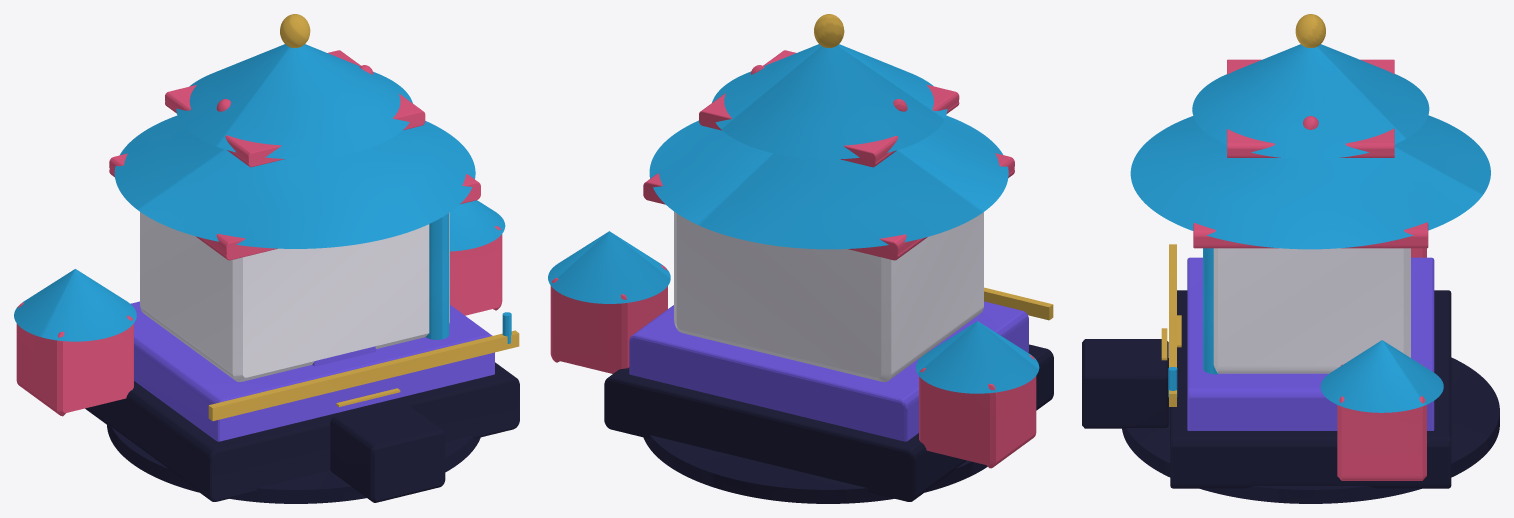
File: 0804_中国建筑图鉴_三大殿.glb
The picture shows the model from 3 angles, left to right: view 1: azimuth 30°, elevation 25°; view 2: azimuth 150°, elevation 25°; view 3: azimuth 270°, elevation 25°; orthographic projection.
Parts seen in each view (by area): view 1: card_0804; view 2: card_0804; view 3: card_0804.
Boxes of the visible parts, x1=… form: card_0804: x1=14, y1=14, x2=519, y2=503; card_0804: x1=548, y1=14, x2=1053, y2=503; card_0804: x1=1082, y1=14, x2=1499, y2=503.
Size of the model in its own units: 1.21 by 1 by 0.9254.
